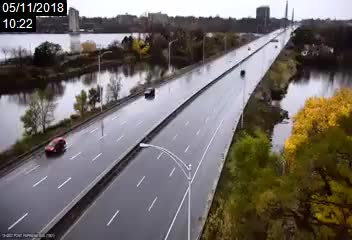personal_car: (45, 137, 66, 156), (144, 86, 156, 97), (238, 68, 247, 76)
